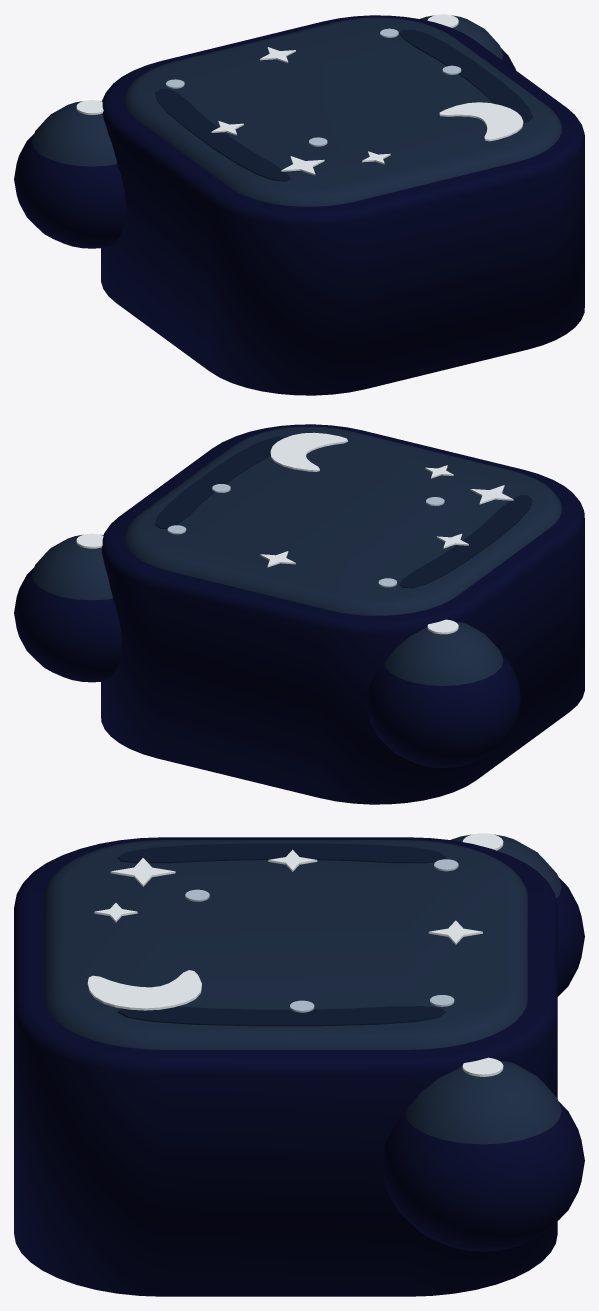
File: body_estampa_noite.fbx
3 views of the same model, one above another, from view 1: azimuth 30°, elevation 25°; view 2: azimuth 150°, elevation 25°; view 3: azimuth 270°, elevation 25° (orthographic). The views are drawn at different scales.
Parts seen in each view (by area): view 1: body_estampa_noite_corpo, body_estampa_noite_mao_esq, body_estampa_noite_mao; view 2: body_estampa_noite_corpo, body_estampa_noite_mao_esq, body_estampa_noite_mao; view 3: body_estampa_noite_corpo, body_estampa_noite_mao, body_estampa_noite_mao_esq.
Boxes of the visible parts, left/top/right/bottom form: body_estampa_noite_corpo: left=101, top=15, right=584, bottom=395; body_estampa_noite_mao_esq: left=14, top=100, right=125, bottom=248; body_estampa_noite_mao: left=420, top=14, right=515, bottom=69; body_estampa_noite_corpo: left=101, top=424, right=584, bottom=804; body_estampa_noite_mao_esq: left=366, top=619, right=520, bottom=767; body_estampa_noite_mao: left=14, top=533, right=121, bottom=682; body_estampa_noite_corpo: left=14, top=837, right=557, bottom=1296; body_estampa_noite_mao: left=382, top=1057, right=584, bottom=1251; body_estampa_noite_mao_esq: left=451, top=833, right=584, bottom=996.
Size of the model in its own units: 5.4 by 2.03 by 4.2.
Materials: 1 (1 with a texture image).
